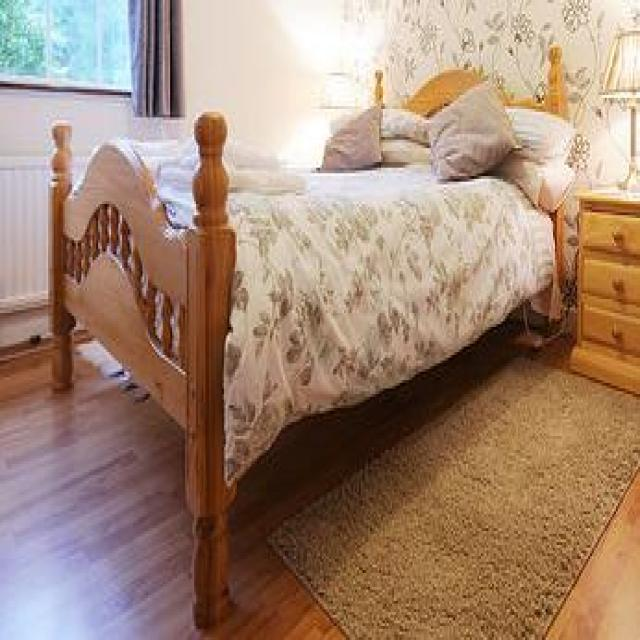bed: (48, 21, 570, 628)
